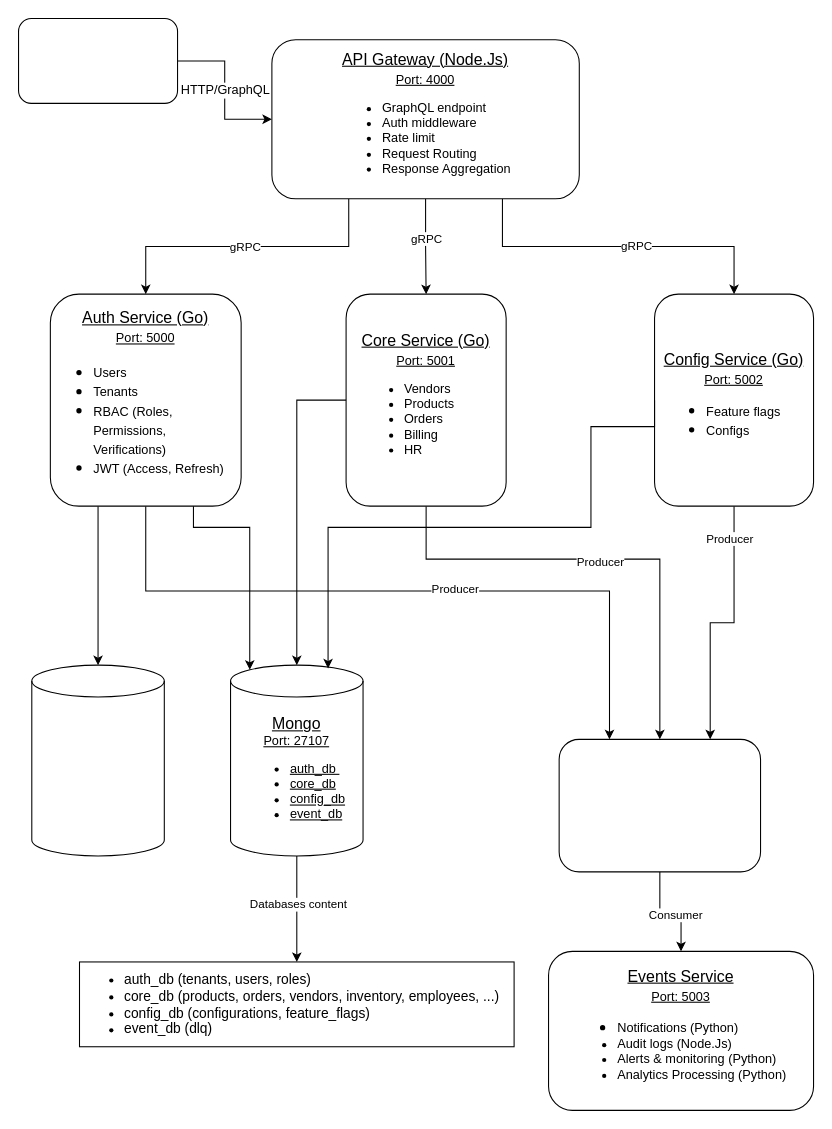
Some shapes in this 832 by 1129 pixel diagram are drawn without their labels. The shapes that lost their labels are listed below. From the top down, each one's centre as x and y in pixels, then its label:
At (97,60): "WebUI (React) Port: 3000".
At (97,760): "Redis Port: 6379 Tokens Cache System crossed configs".
At (659,805): "Kafka Port: 9092 Events".
